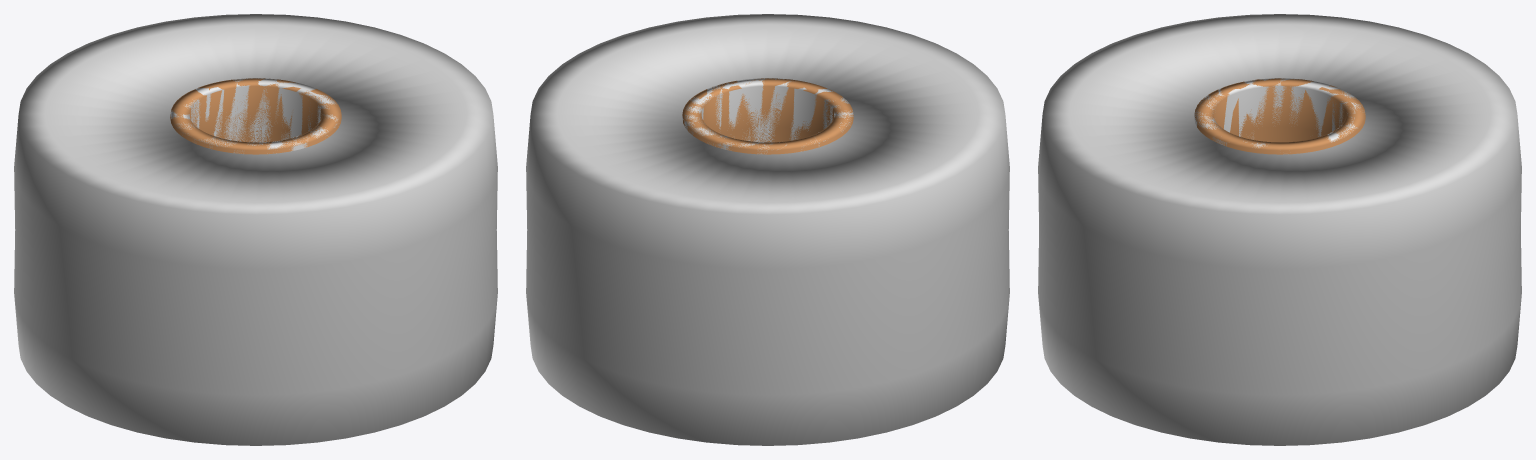
Rendered from reciept roll.fbx.
3 renders of one model, left to right at view 1: azimuth 30°, elevation 25°; view 2: azimuth 150°, elevation 25°; view 3: azimuth 270°, elevation 25°, orthographic.
Parts seen in each view (by area): view 1: Torus.002, Torus; view 2: Torus.002, Torus; view 3: Torus.002, Torus.
Part boxes in pixels (box(x1,y1,x2,y2)): Torus.002: box(14, 14, 497, 445); Torus: box(170, 78, 338, 153); Torus.002: box(526, 14, 1009, 445); Torus: box(682, 78, 853, 153); Torus.002: box(1038, 14, 1521, 445); Torus: box(1194, 78, 1364, 148).
Size of the model in its own units: 637 by 339 by 637.
